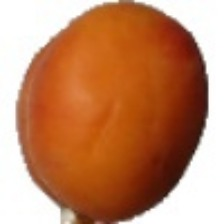apricot: (13, 19, 207, 193)
